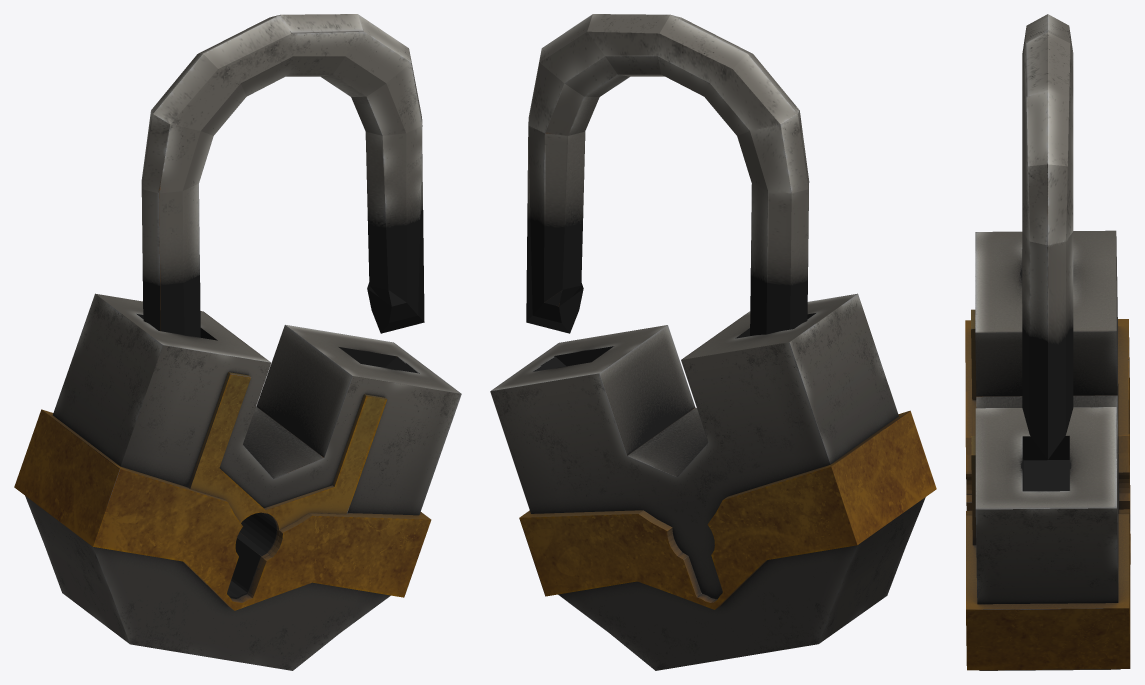
Rendered from LockRigged.fbx.
3 views of the same model, side by side, from view 1: azimuth 30°, elevation 25°; view 2: azimuth 150°, elevation 25°; view 3: azimuth 270°, elevation 25° (orthographic). The views are drawn at different scales.
Visible parts, largest first — view 1: Cube, Torus; view 2: Cube, Torus; view 3: Cube, Torus.
Part boxes in pixels (x1,y1,x2,y2): Cube: (14, 293, 461, 670); Torus: (141, 14, 424, 337); Cube: (490, 293, 936, 670); Torus: (526, 14, 809, 335); Cube: (965, 230, 1130, 670); Torus: (1022, 14, 1073, 459).
Bounding box in the file's own units: 132 × 212 × 48.81.
